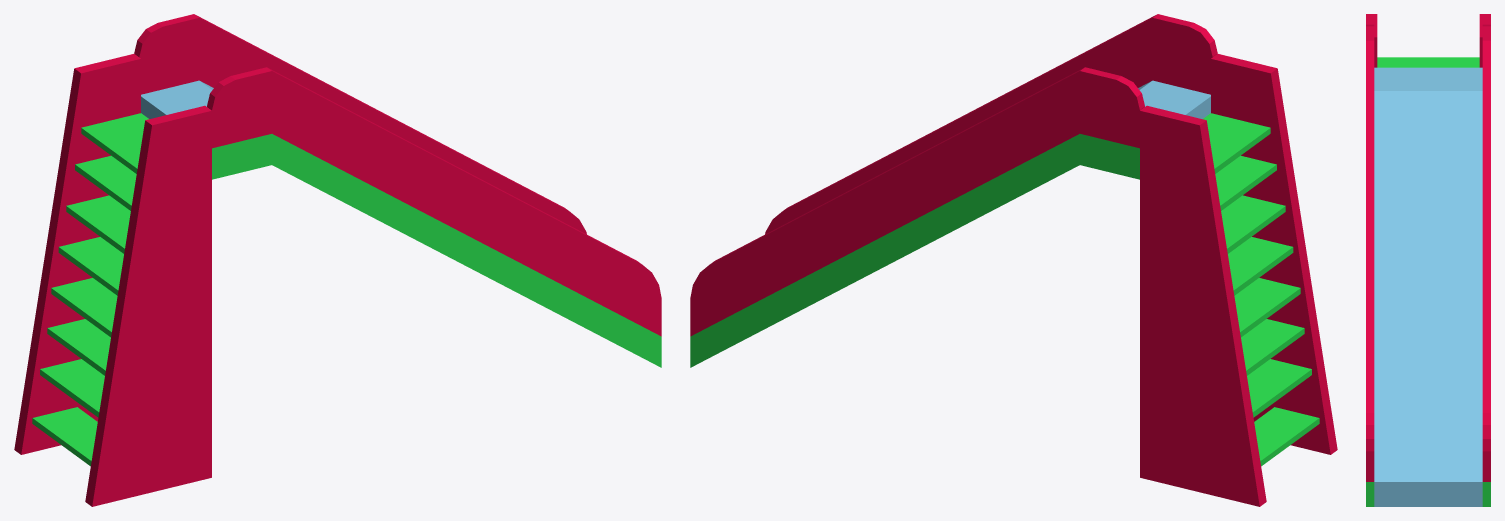
The model's file is Slide 2.fbx.
3 renders of one model, left to right at view 1: azimuth 30°, elevation 25°; view 2: azimuth 150°, elevation 25°; view 3: azimuth 270°, elevation 25°, orthographic. The views are drawn at different scales.
Visible parts, largest first — view 1: Slide 2; view 2: Slide 2; view 3: Slide 2.
Boxes of the visible parts, x1,y1,x2,y2 form: Slide 2: [14, 14, 661, 506]; Slide 2: [690, 14, 1337, 506]; Slide 2: [1366, 14, 1490, 506].
Bounding box in the file's own units: 304 × 200 × 72.
